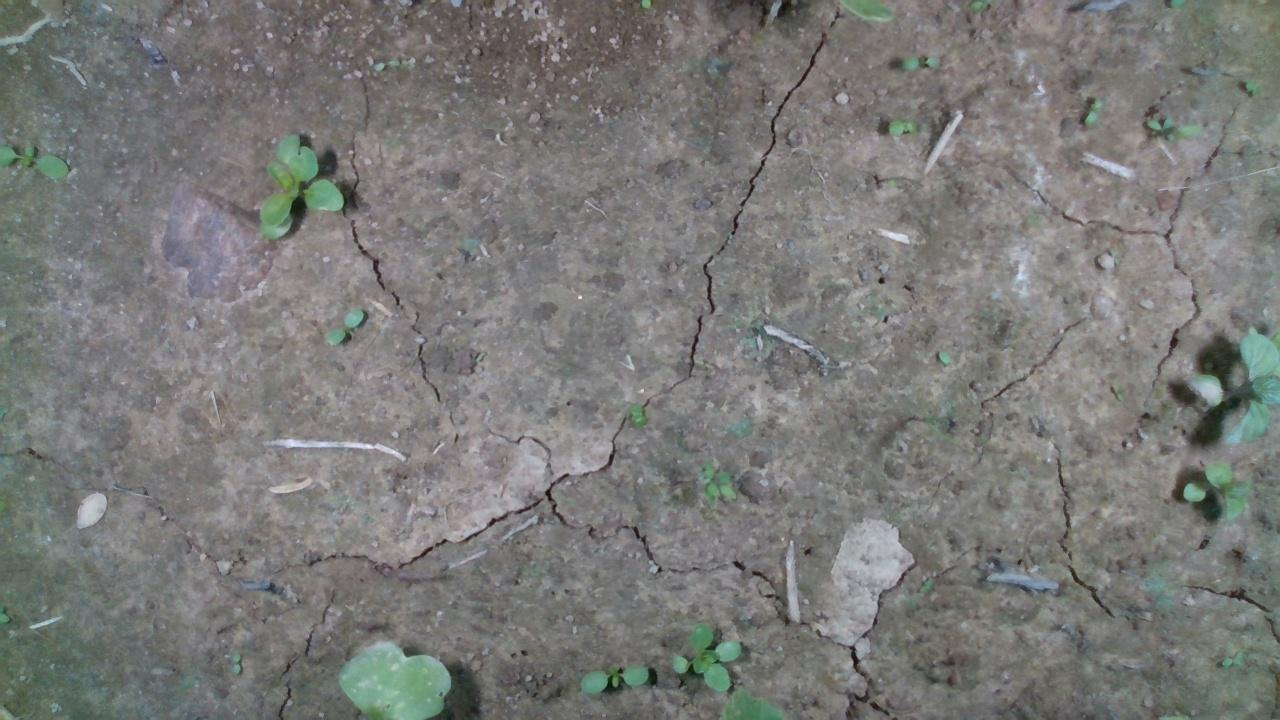weed: (577, 660, 650, 695), (320, 306, 363, 349), (1143, 113, 1177, 140), (1080, 95, 1103, 130), (901, 52, 944, 69), (628, 400, 646, 427)
